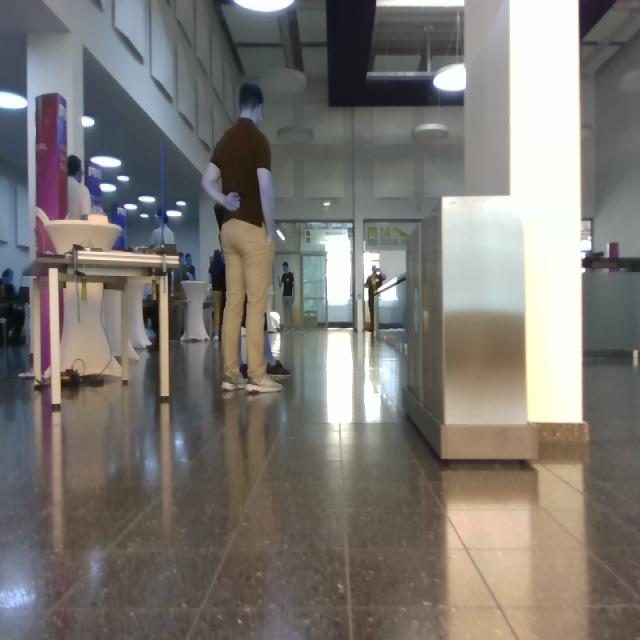light bulb: (432, 64, 464, 93), (231, 1, 295, 13), (378, 1, 465, 8), (1, 92, 28, 109), (91, 156, 121, 169), (101, 184, 116, 192), (85, 116, 95, 128), (277, 229, 286, 241), (139, 196, 156, 202), (119, 176, 130, 182), (141, 214, 149, 218)
person: (203, 84, 280, 393), (1, 269, 29, 346), (67, 156, 91, 220), (365, 266, 385, 333), (279, 262, 295, 330)
pillar: (466, 1, 589, 461), (28, 34, 84, 210)
table: (30, 250, 179, 409), (61, 282, 120, 377), (39, 209, 121, 254), (182, 280, 210, 342)
tiled floor: (1, 330, 640, 640)
trash bin: (404, 197, 537, 460)
